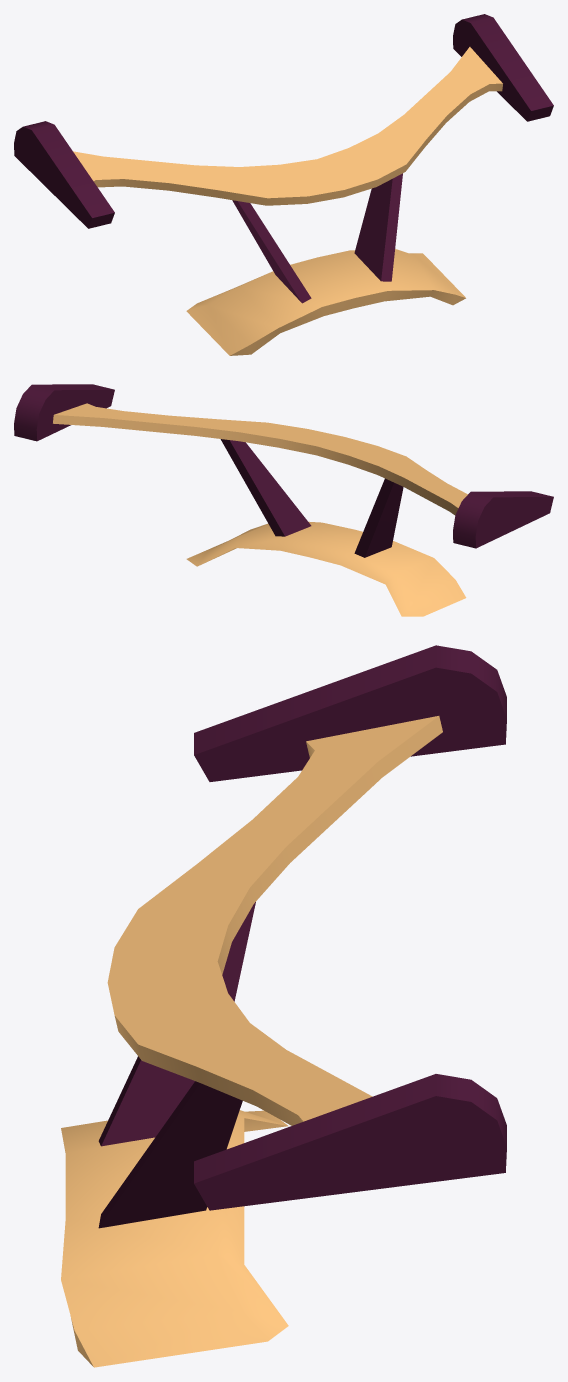
File: LuxSpoiler01C05.gltf
3 views of the same model, one above another, from view 1: azimuth 30°, elevation 25°; view 2: azimuth 150°, elevation 25°; view 3: azimuth 270°, elevation 25° (orthographic). The views are drawn at different scales.
Parts seen in each view (by area): view 1: LuxSpoiler01C05; view 2: LuxSpoiler01C05; view 3: LuxSpoiler01C05.
Boxes of the visible parts, x1=… form: LuxSpoiler01C05: x1=14, y1=14, x2=553, y2=355; LuxSpoiler01C05: x1=14, y1=384, x2=553, y2=616; LuxSpoiler01C05: x1=61, y1=645, x2=506, y2=1367.
Size of the model in its own units: 0.1729 by 0.0683 by 0.0724.
1 material, 1 textured.
